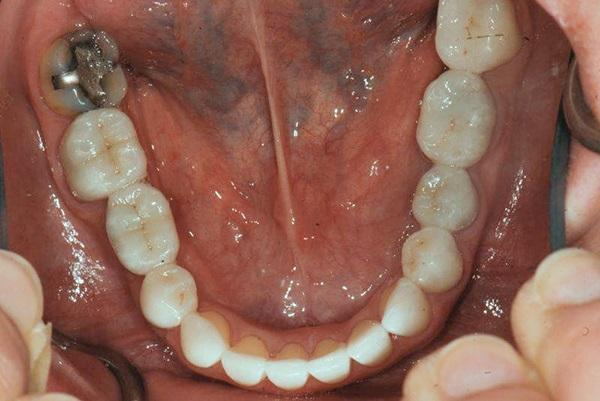LL1BC_healthy: (399, 228, 464, 288)
LL1M_healthy: (421, 71, 490, 159)
LL2BC_decay: (415, 165, 478, 225)
LL2M_decay: (437, 1, 517, 71)
LLCI_healthy: (308, 340, 350, 381)
LLC_healthy: (379, 281, 435, 334)
LLLI_healthy: (348, 323, 393, 363)
LR1BC_healthy: (143, 268, 195, 319)
LR1M_decay: (64, 111, 148, 193)
LR2BC_healthy: (109, 193, 181, 265)
LR2M_decay: (46, 31, 126, 109)
LRCI_healthy: (270, 343, 307, 385)
LRC_healthy: (182, 310, 227, 363)
LRLI_healthy: (227, 337, 266, 383)
